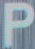Parking: (2, 2, 33, 48)
